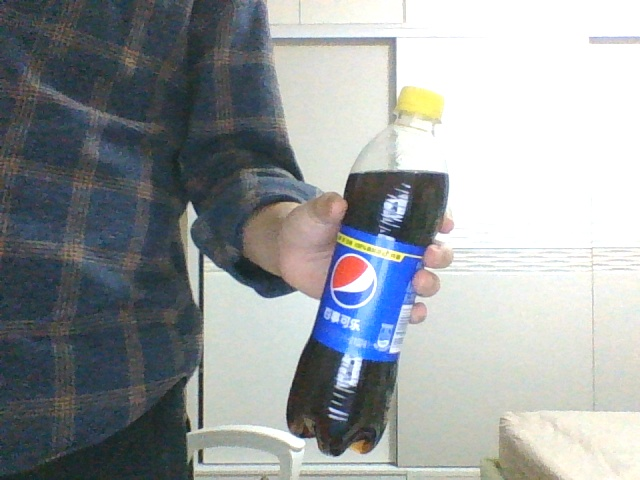Cola: (284, 89, 446, 455)
